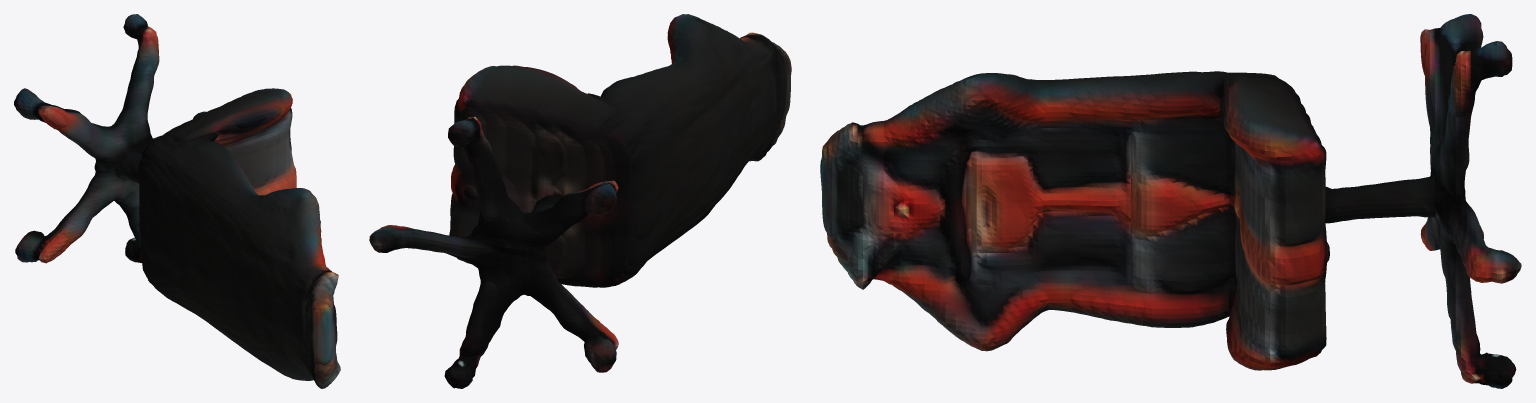
The model's file is GamingChair.obj.
The picture shows the model from 3 angles, left to right: view 1: azimuth 30°, elevation 25°; view 2: azimuth 150°, elevation 25°; view 3: azimuth 270°, elevation 25°; orthographic projection. The views are drawn at different scales.
Bounding box in the file's own units: 0.4606 × 0.5009 × 0.9287.
